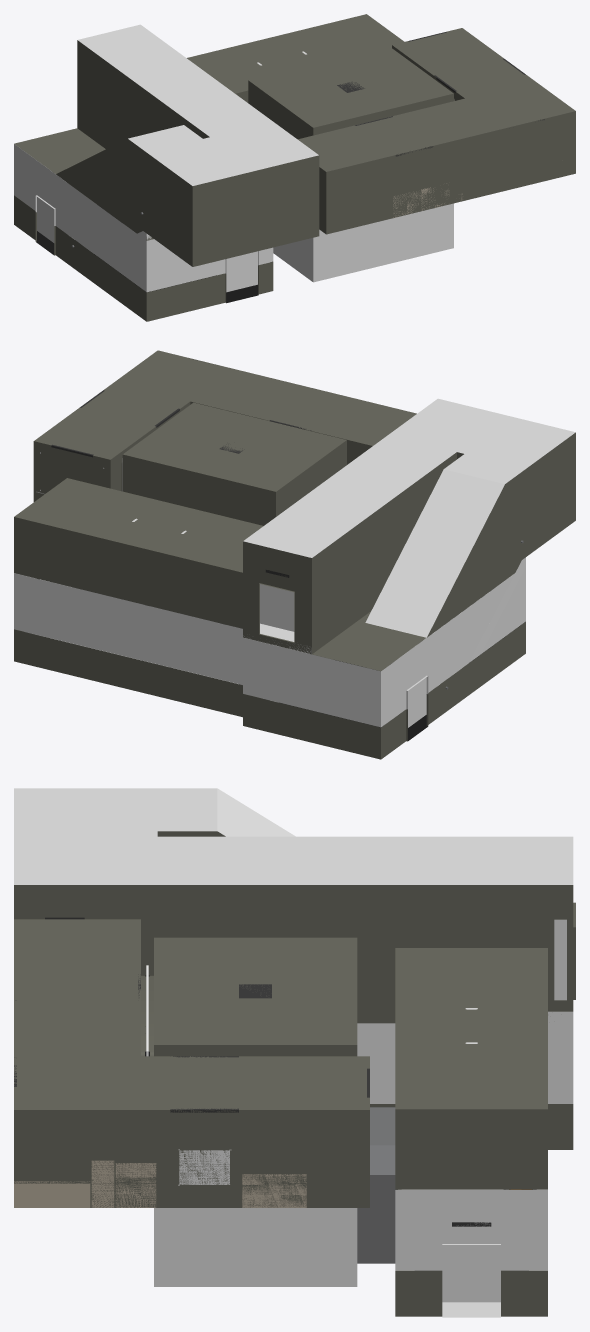
The model's file is StartingArea.fbx.
The picture shows the model from 3 angles, top to bottom: view 1: azimuth 30°, elevation 25°; view 2: azimuth 150°, elevation 25°; view 3: azimuth 270°, elevation 25°; orthographic projection. The views are drawn at different scales.
Visible parts, largest first — view 1: StairsRoom, SCP173ControlRoom, SCP173Cell, SCP173CellEnter, Cube.038, F1_SA_Trigger1-4, F1_SA_Trigger1-2, Cabinet8; view 2: StairsRoom, SCP173CellEnter, SCP173ControlRoom, SCP173Cell, Cube.038, F1_SA_Trigger1-3, sg6.002, F1_SA_Trigger1-2; view 3: StairsRoom, SCP173ControlRoom, SCP173CellEnter, SCP173Cell, SCP173CellDoorFrame, F1_SA_Trigger2-2, Cabinet7, Cabinet6, NoteBoard3, Cabinet2, Cabinet3, F1_SA_Trigger1-3.
Part boxes in pixels (left/top/right/bottom): StairsRoom: left=14, top=24, right=319, bottom=321; SCP173ControlRoom: left=298, top=28, right=575, bottom=234; SCP173Cell: left=248, top=46, right=453, bottom=282; SCP173CellEnter: left=187, top=14, right=404, bottom=102; Cube.038: left=70, top=231, right=202, bottom=321; F1_SA_Trigger1-4: left=217, top=251, right=269, bottom=292; F1_SA_Trigger1-2: left=33, top=197, right=74, bottom=242; Cabinet8: left=393, top=183, right=462, bottom=217; StairsRoom: left=243, top=398, right=575, bottom=759; SCP173CellEnter: left=14, top=478, right=263, bottom=717; SCP173ControlRoom: left=33, top=350, right=416, bottom=501; SCP173Cell: left=122, top=402, right=346, bottom=525; Cube.038: left=442, top=557, right=525, bottom=714; F1_SA_Trigger1-3: left=260, top=584, right=294, bottom=631; sg6.002: left=243, top=598, right=377, bottom=653; F1_SA_Trigger1-2: left=386, top=677, right=426, bottom=727; StairsRoom: left=14, top=788, right=575, bottom=1149; SCP173ControlRoom: left=14, top=919, right=369, bottom=1207; SCP173CellEnter: left=395, top=948, right=547, bottom=1317; SCP173Cell: left=148, top=937, right=357, bottom=1286; SCP173CellDoorFrame: left=357, top=1107, right=397, bottom=1261; F1_SA_Trigger2-2: left=415, top=1245, right=528, bottom=1302; Cabinet7: left=242, top=1174, right=306, bottom=1207; Cabinet6: left=14, top=1183, right=90, bottom=1207; NoteBoard3: left=179, top=1150, right=229, bottom=1184; Cabinet2: left=115, top=1163, right=156, bottom=1207; Cabinet3: left=91, top=1160, right=114, bottom=1207; F1_SA_Trigger1-3: left=554, top=919, right=566, bottom=1000.
Size of what is drawn, in the model's own units: 5470 by 2320 by 4420.
